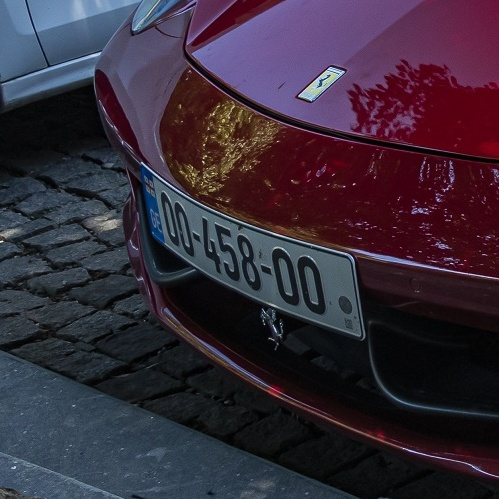plaka: (132, 160, 367, 339)
